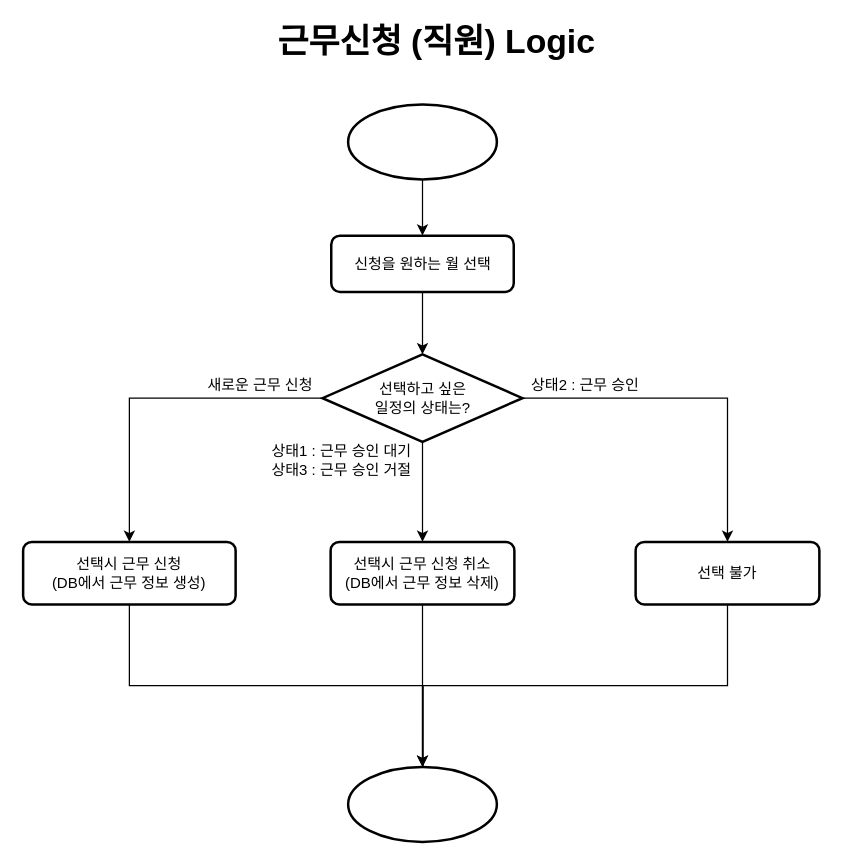
Image size: 841x864. Some labels were removed from this diagram. Each missing label, with the box of its shape:
END (requestwork.jsp): (346, 765, 498, 842)
START (requestwork.jsp): (346, 102, 498, 180)
